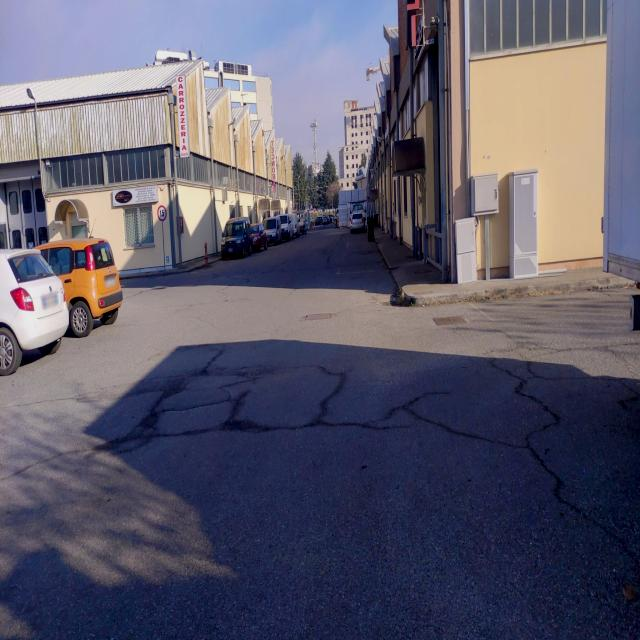car: (0, 246, 71, 376), (34, 236, 124, 337), (220, 217, 252, 260), (264, 216, 283, 244), (250, 223, 268, 252), (279, 213, 293, 240), (350, 210, 366, 233), (290, 214, 301, 237)
